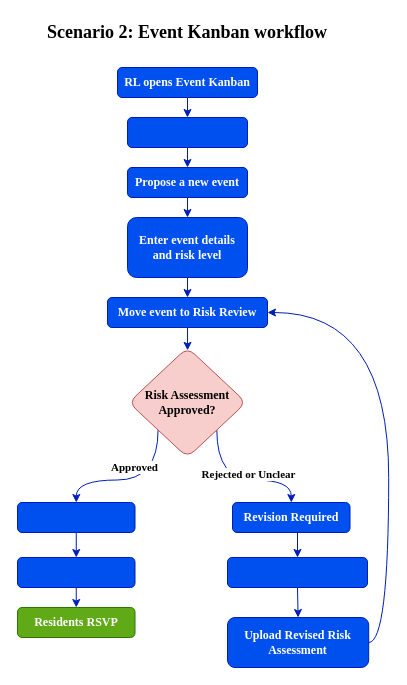
Image size: 407x685. Some labels were removed from this diagram. The centre of each missing label's shape, as x and y in pixels:
"Move to Published" belongs at pixel 75 517.
"Read supervisor feedback" belongs at pixel 297 572.
"Residents view event in feed" belongs at pixel 75 572.
"View events by status" belongs at pixel 187 132.
